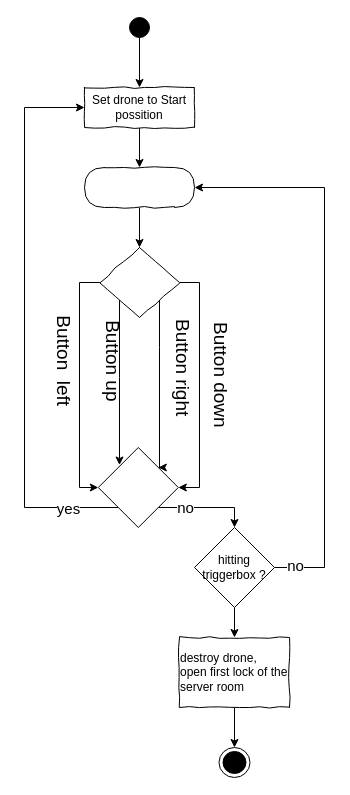
The diagram is 350 pixels wide and 795 high, and some of its shapes have lost their labels. The box of each missing label's shape, as (x1, y1, x2, y2) in pixels:
hitting obstacle ?: (97, 446, 178, 528)
Interact with buzzer: (84, 166, 194, 208)
